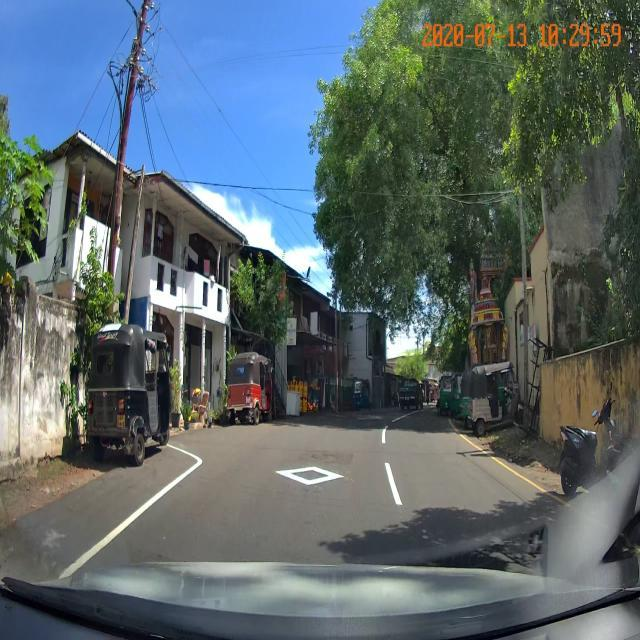diamond: (139, 459, 411, 518)
